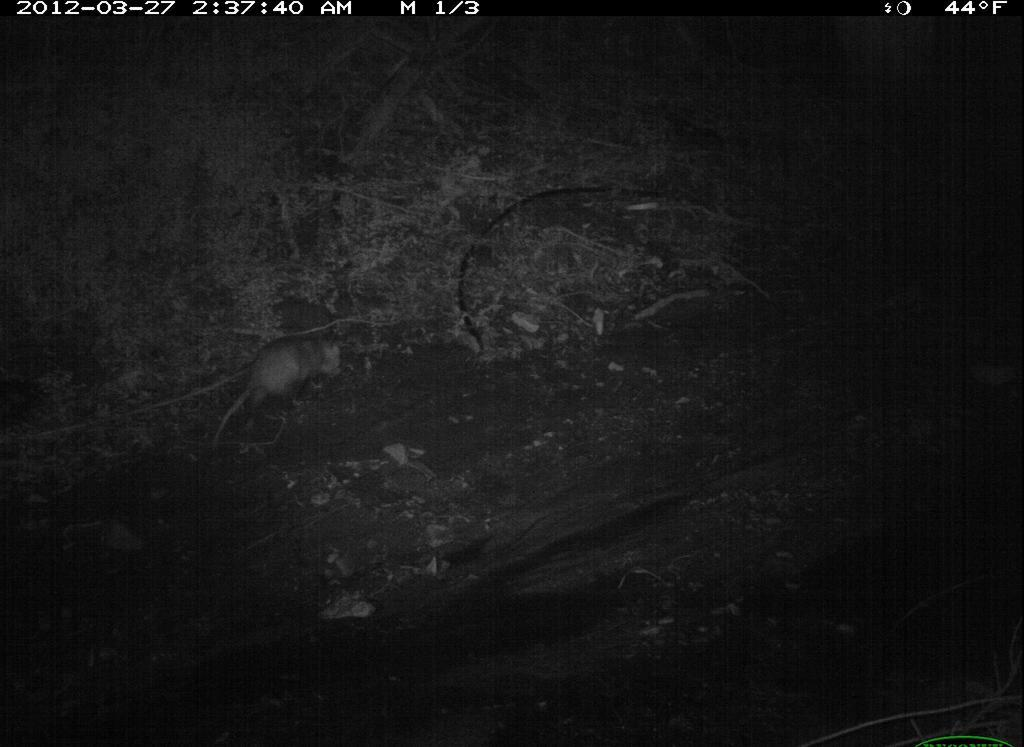opossum: (204, 329, 359, 456)
